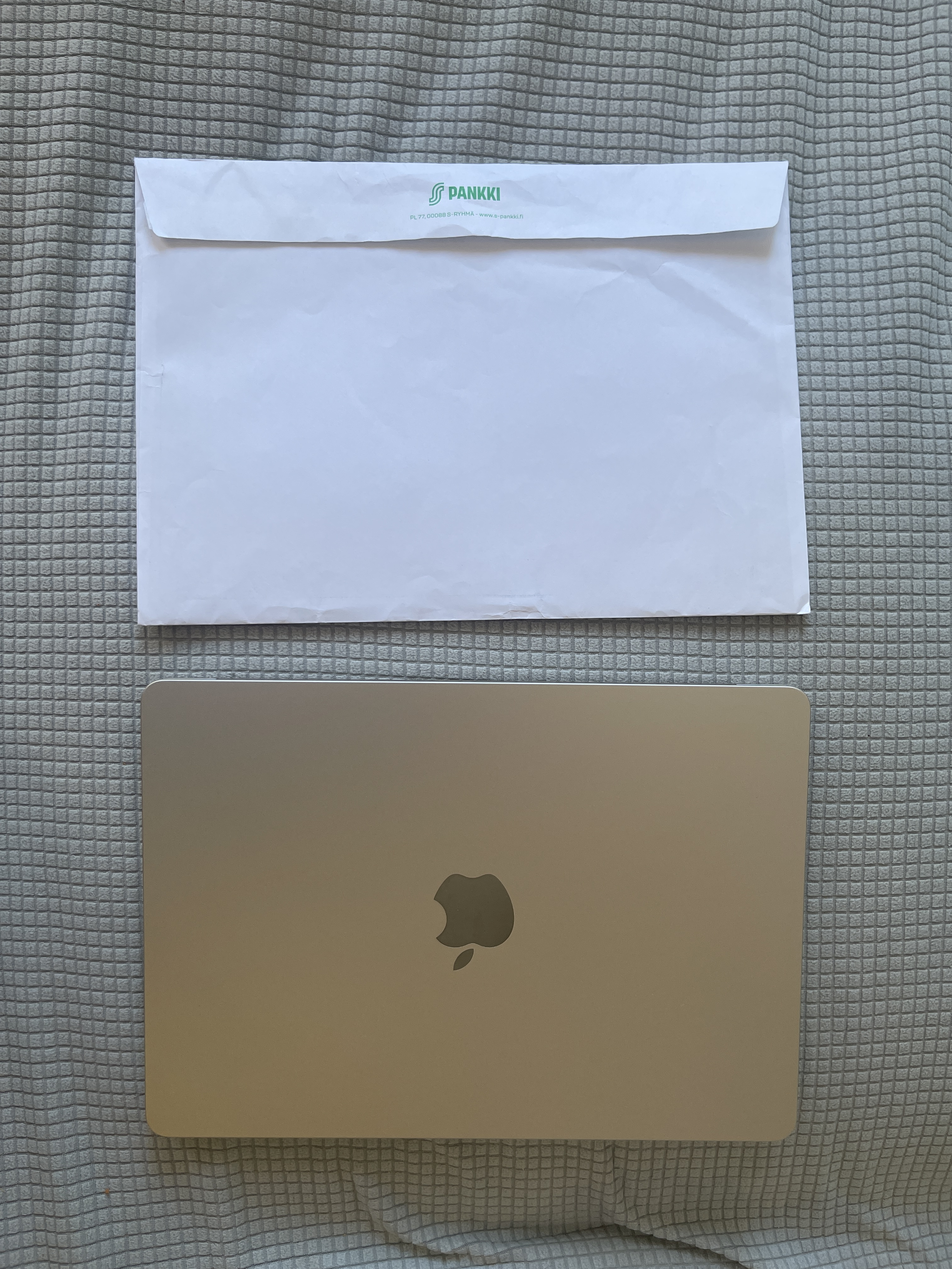paper: (126, 141, 823, 635)
